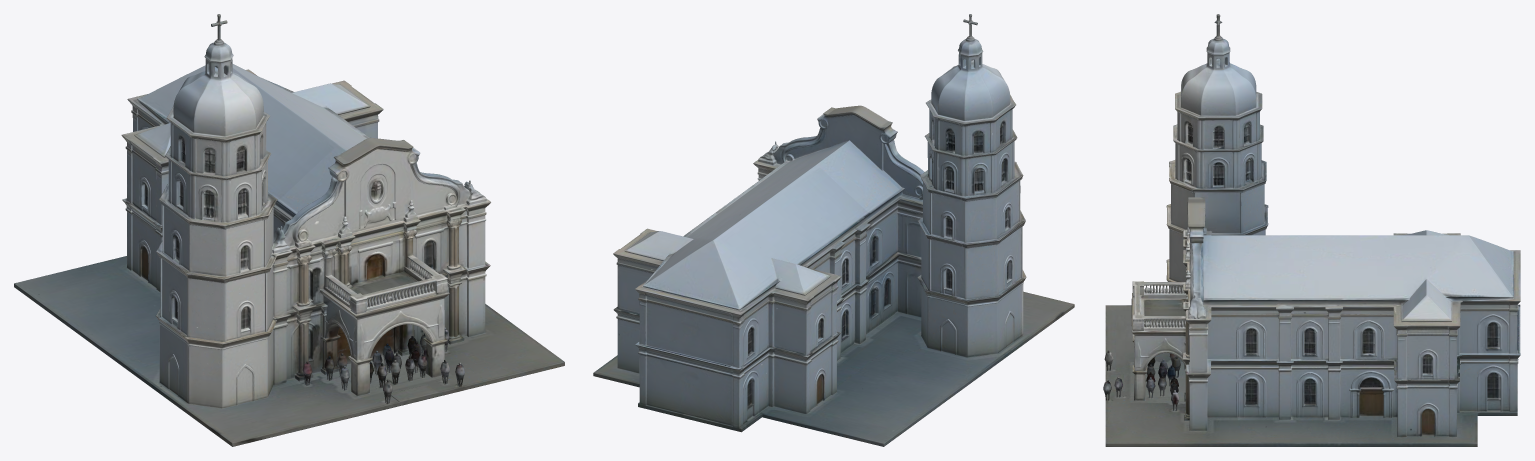
The model's file is Immaculate.glb.
The picture shows the model from 3 angles, left to right: view 1: azimuth 30°, elevation 25°; view 2: azimuth 150°, elevation 25°; view 3: azimuth 270°, elevation 25°; orthographic projection. The views are drawn at different scales.
Bounding box in the file's own units: 0.6245 × 0.666 × 0.7959.
Materials: 1 (1 with a texture image).
